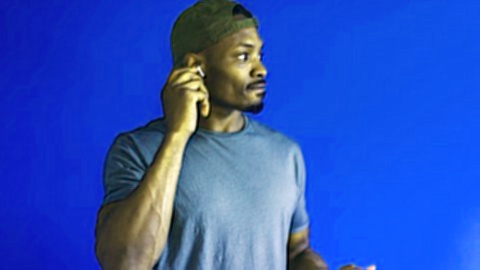earphone: (185, 54, 206, 79)
